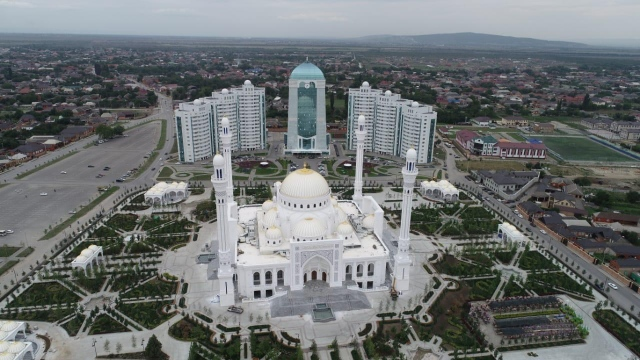Mosque: (185, 113, 433, 341)
